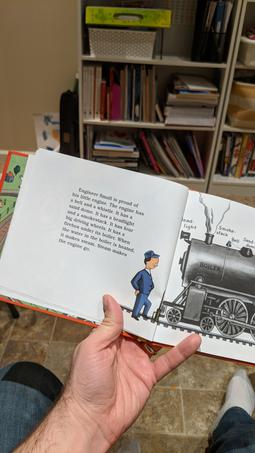text block: (56, 181, 149, 264)
